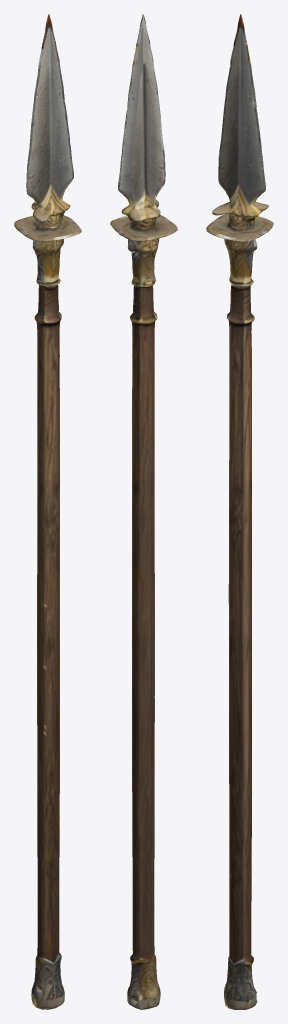
Rendered from Spear.fbx.
The picture shows the model from 3 angles, left to right: view 1: azimuth 30°, elevation 25°; view 2: azimuth 210°, elevation 25°; view 3: azimuth 330°, elevation 25°; orthographic projection.
Parts seen in each view (by area): view 1: Mesh_0; view 2: Mesh_0; view 3: Mesh_0.
Boxes of the visible parts, x1,y1,x2,y2 form: Mesh_0: [14, 14, 81, 1009]; Mesh_0: [110, 14, 177, 1009]; Mesh_0: [206, 14, 273, 1009].
Bounding box in the file's own units: 10.92 × 199 × 11.25.
Materials: 1 (1 with a texture image).
